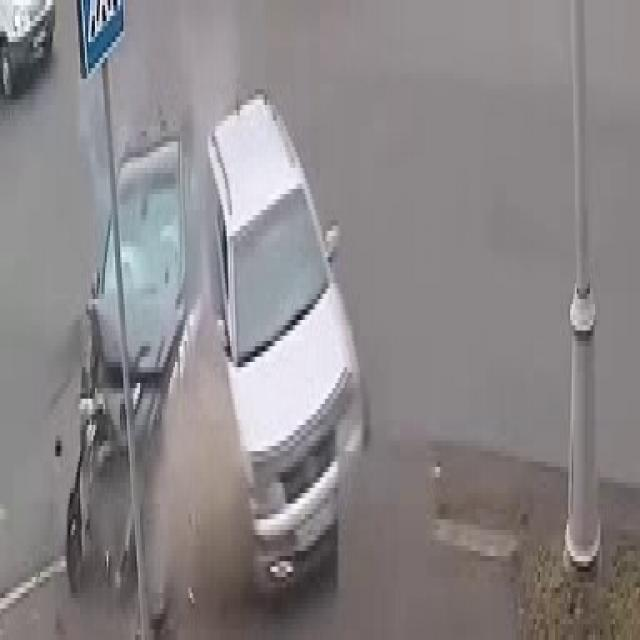accident: (66, 92, 360, 623)
